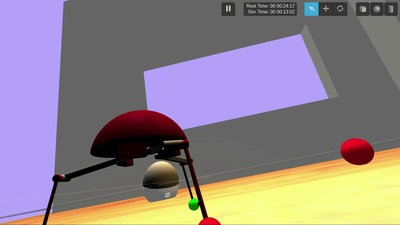mira_robot: (143, 161, 179, 203)
